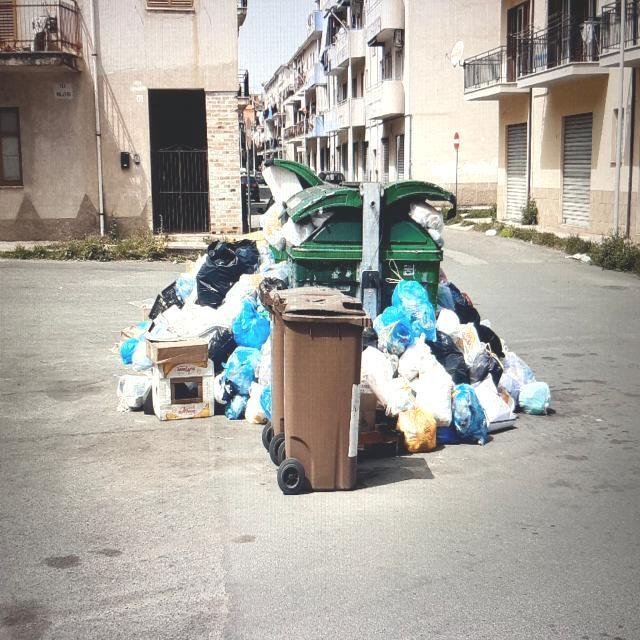high trash: (361, 280, 550, 452), (118, 241, 286, 423)
